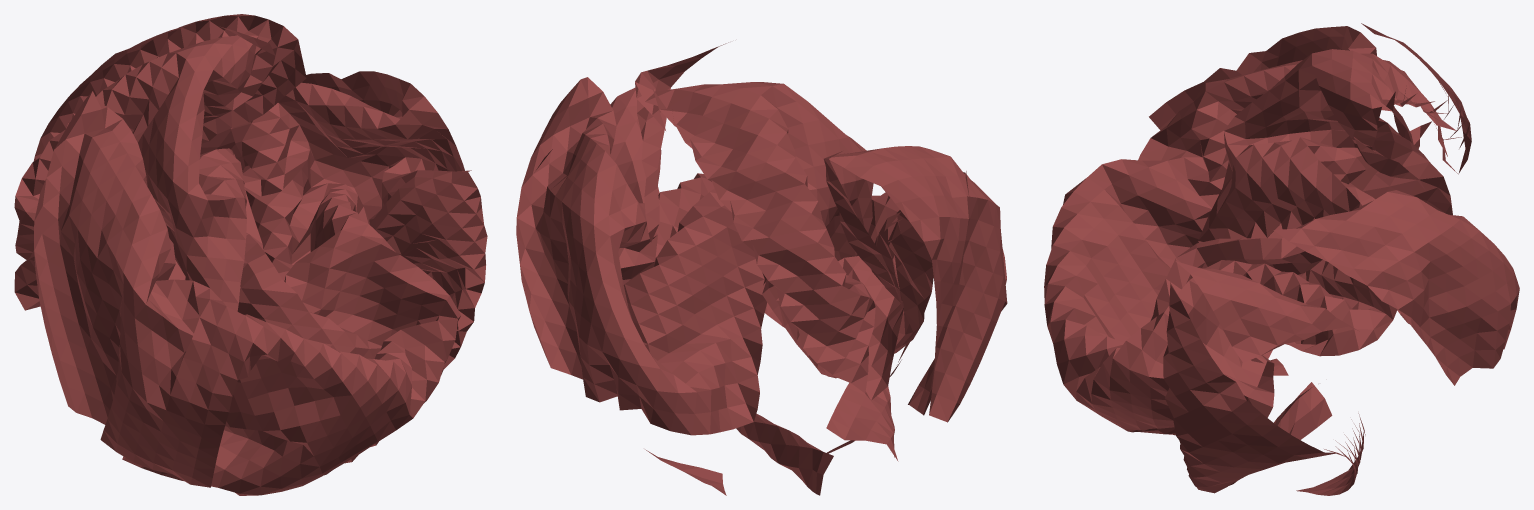
File: PUP-Chevron.glb
3 renders of one model, left to right at view 1: azimuth 30°, elevation 25°; view 2: azimuth 150°, elevation 25°; view 3: azimuth 270°, elevation 25°, orthographic. The views are drawn at different scales.
Parts seen in each view (by area): view 1: crumpled; view 2: crumpled; view 3: crumpled.
Boxes of the visible parts, x1,y1,x2,y2 form: crumpled: (14, 14, 487, 495); crumpled: (516, 42, 1007, 495); crumpled: (1044, 23, 1519, 495).
Size of the model in its own units: 158 by 159 by 154.
